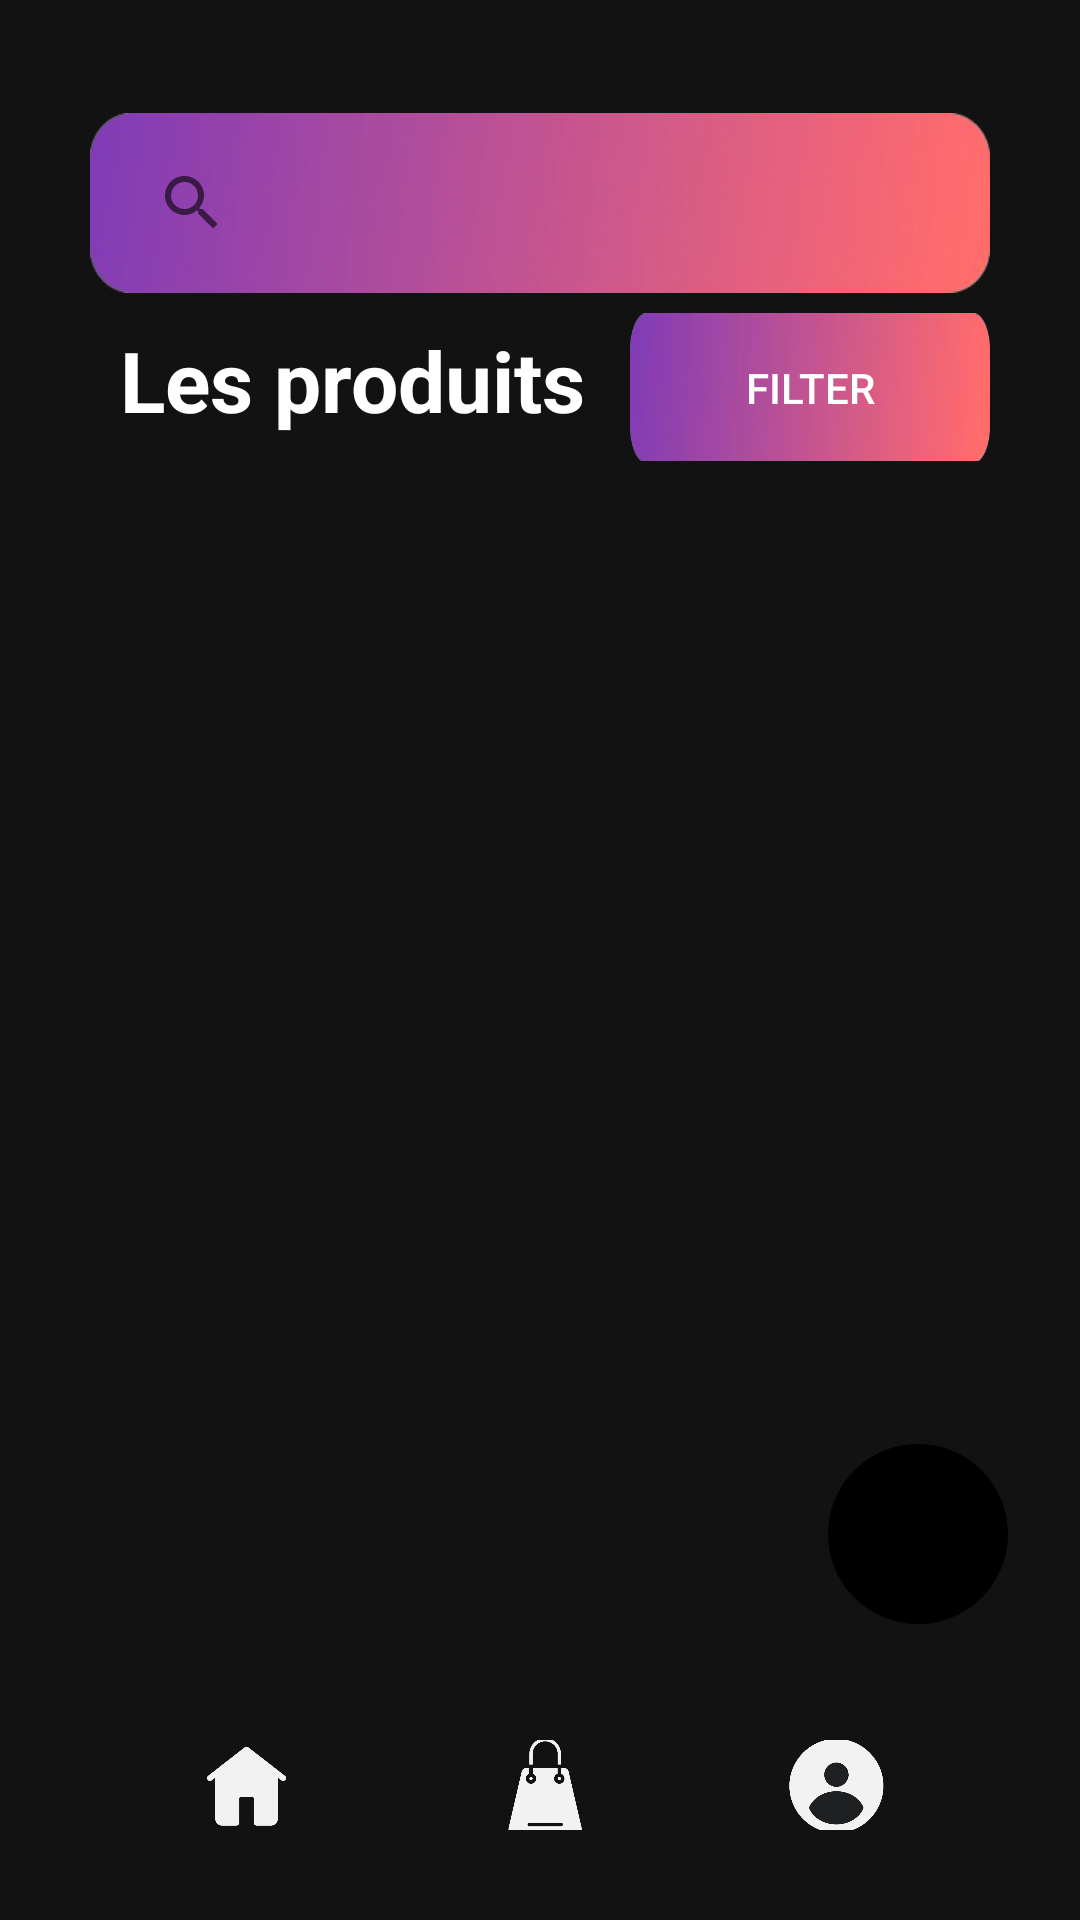

Where icons sit on this 1080 x 1920 app screen, as (x1, y1, x2, y2):
store: (508, 1740, 582, 1830)
